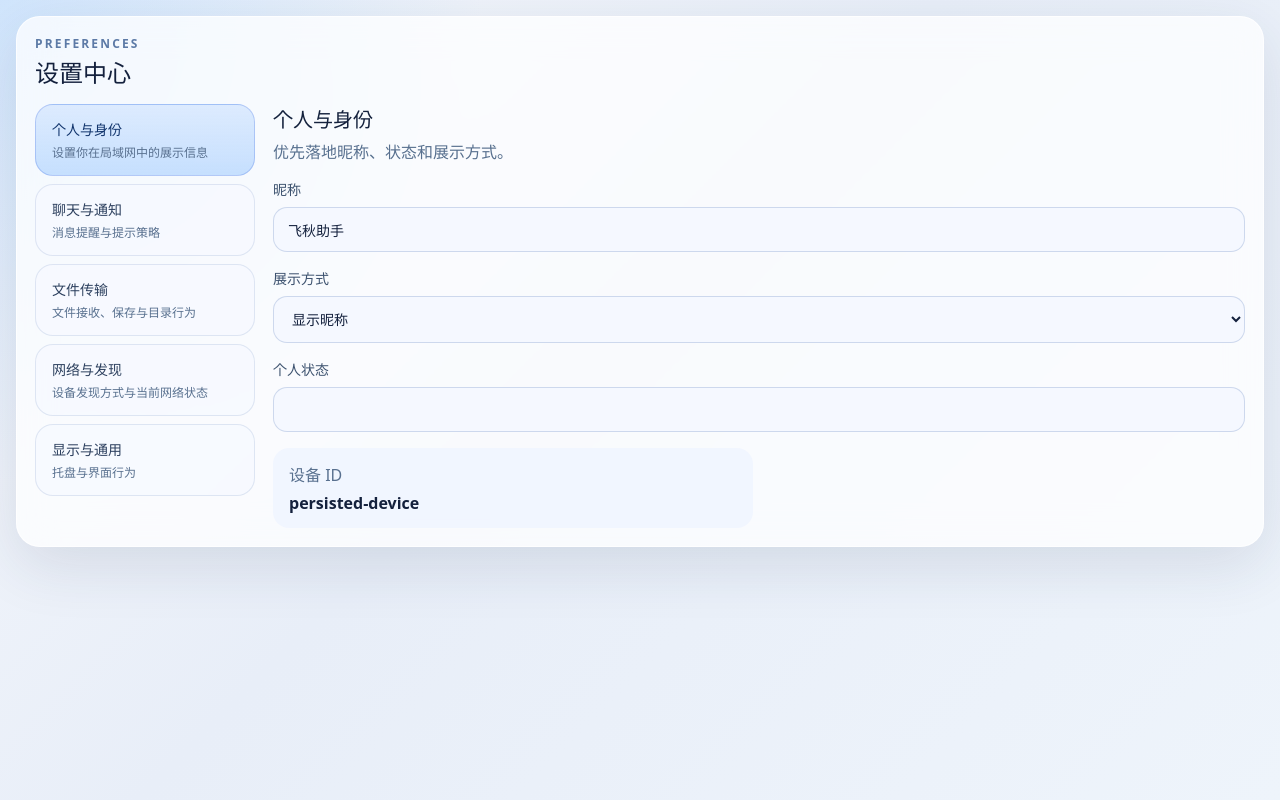
Test: loads persisted settings from desktop api
This screenshot has width=1280, height=800.
Expected: the field showing "飞秋助手" is shown, [273,207,1245,252]
Click the button "文件传输 文件接收、保存与目录行为" at (145, 300), box [35,264,255,336]
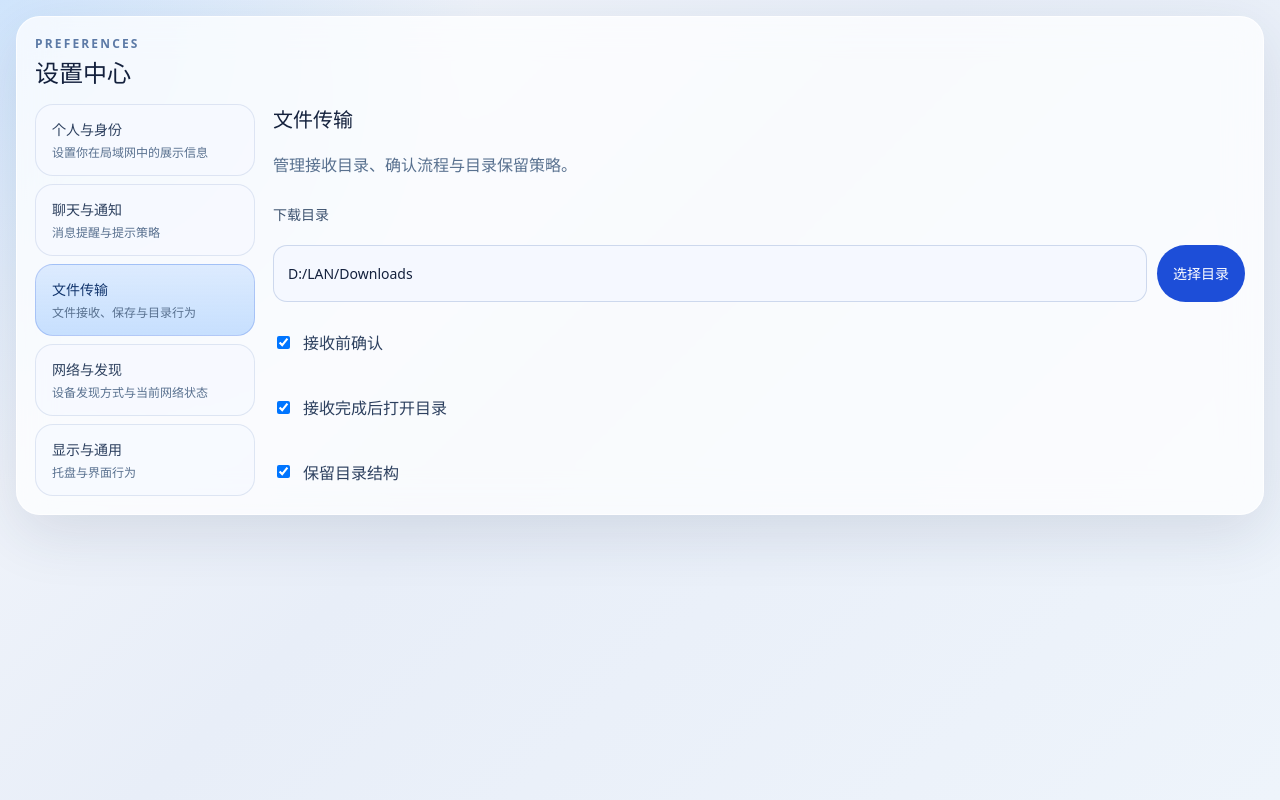
Result: the field showing "D:/LAN/Downloads" is shown at [273,245,1147,302]
